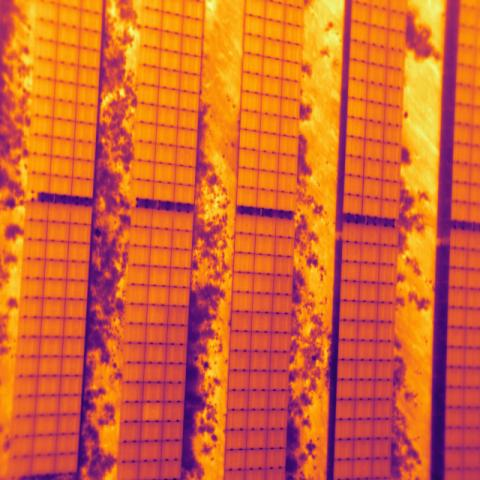fault: (142, 403, 162, 421)
